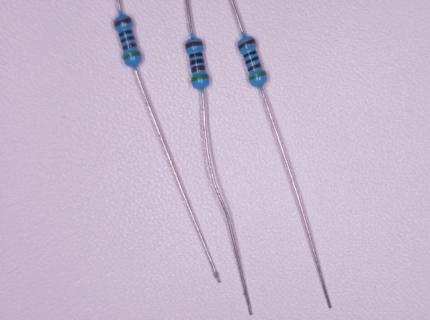Brown band: (247, 62, 262, 72), (122, 42, 137, 51), (191, 65, 206, 73)
Green band: (249, 71, 267, 81), (123, 51, 141, 61), (191, 74, 209, 83)
